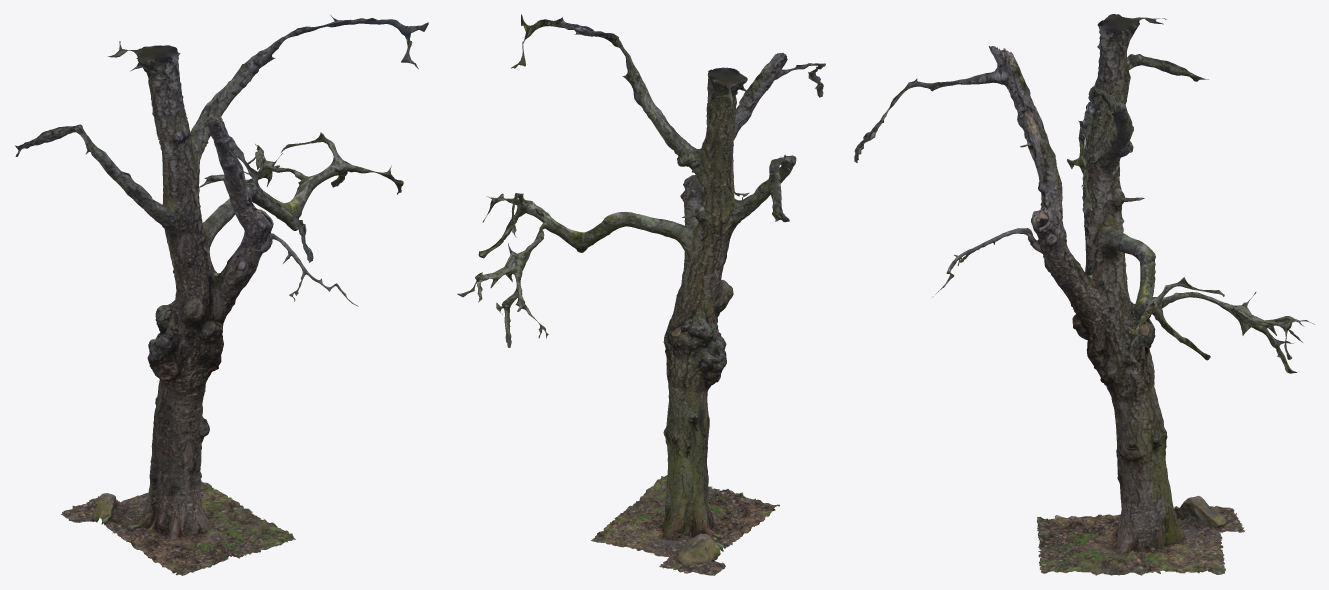
Rendered from cherry.glb.
The picture shows the model from 3 angles, left to right: view 1: azimuth 30°, elevation 25°; view 2: azimuth 150°, elevation 25°; view 3: azimuth 270°, elevation 25°; orthographic projection. The views are drawn at different scales.
Parts seen in each view (by area): view 1: meshNode; view 2: meshNode; view 3: meshNode.
Part boxes in pixels (x1=…): meshNode: x1=15, y1=14, x2=428, y2=575; meshNode: x1=457, y1=14, x2=825, y2=575; meshNode: x1=854, y1=14, x2=1314, y2=575.
Bounding box in the file's own units: 2.85 × 3.76 × 3.09.
Materials: 2 (2 with a texture image).
